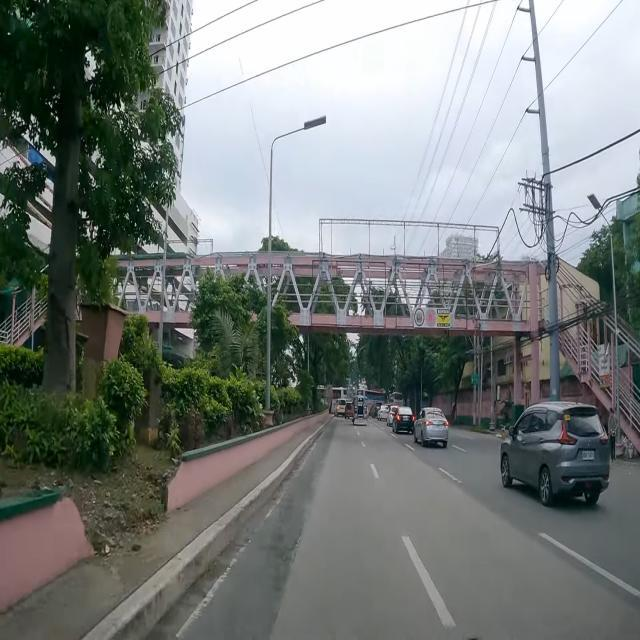bus: (357, 389, 387, 417), (318, 386, 348, 413), (389, 392, 404, 407)
car: (500, 402, 611, 505), (413, 408, 449, 448), (392, 406, 414, 434), (377, 406, 389, 420)
jeepney: (352, 396, 368, 424)
